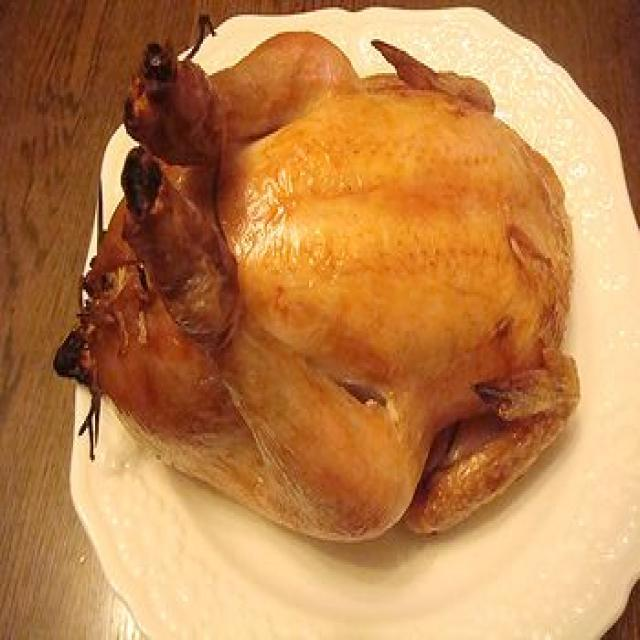Chicken roast: (57, 44, 577, 540)
